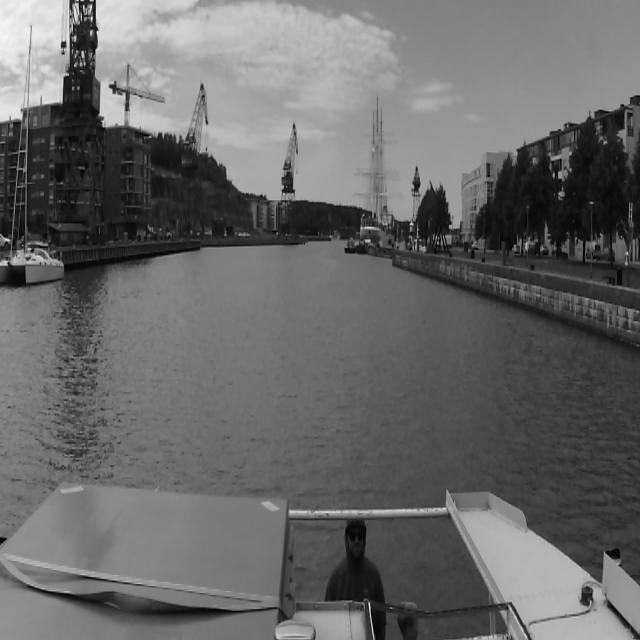ship: (0, 24, 65, 286), (353, 94, 397, 249)
